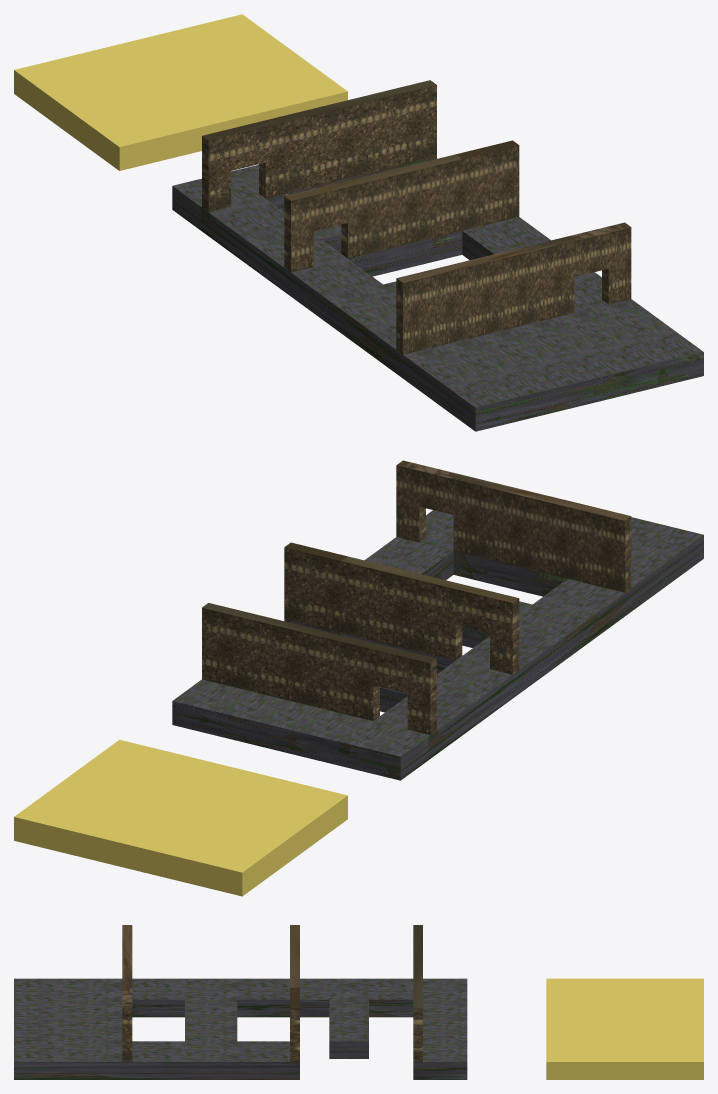
Rendered from Tutorial.glb.
3 renders of one model, top to bottom at view 1: azimuth 30°, elevation 25°; view 2: azimuth 150°, elevation 25°; view 3: azimuth 270°, elevation 25°, orthographic. The views are drawn at different scales.
Parts seen in each view (by area): view 1: Tutorial Level; view 2: Tutorial Level; view 3: Tutorial Level.
Part boxes in pixels (x1,y1,x2,y2): Tutorial Level: [14, 14, 703, 431]; Tutorial Level: [14, 460, 703, 896]; Tutorial Level: [14, 925, 703, 1079].
Bounding box in the file's own units: 20 × 8 × 70.
Materials: 3 (2 with a texture image).
